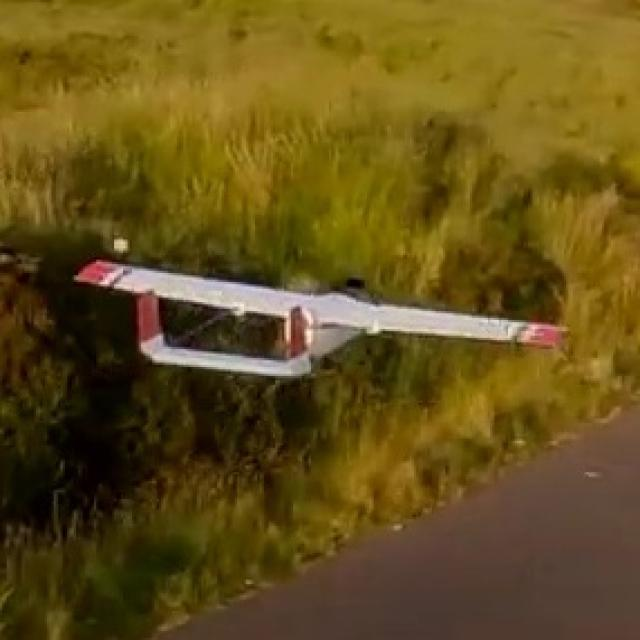iha: (67, 254, 573, 386)
